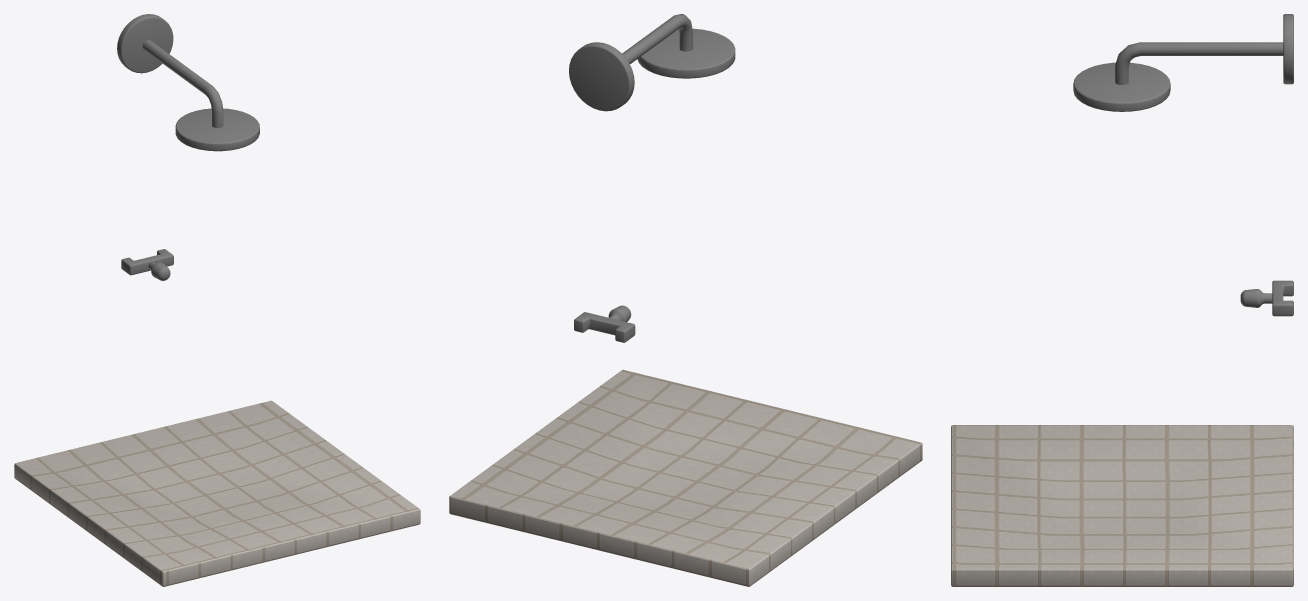
Rendered from prysznic.fbx.
The picture shows the model from 3 angles, left to right: view 1: azimuth 30°, elevation 25°; view 2: azimuth 150°, elevation 25°; view 3: azimuth 270°, elevation 25°; orthographic projection. The views are drawn at different scales.
Visible parts, largest first — view 1: Cube; view 2: Cube; view 3: Cube.
Boxes of the visible parts, x1,y1,x2,y2 form: Cube: [14, 14, 420, 586]; Cube: [449, 14, 922, 586]; Cube: [951, 14, 1293, 586].
Bounding box in the file's own units: 200 × 321 × 200.
